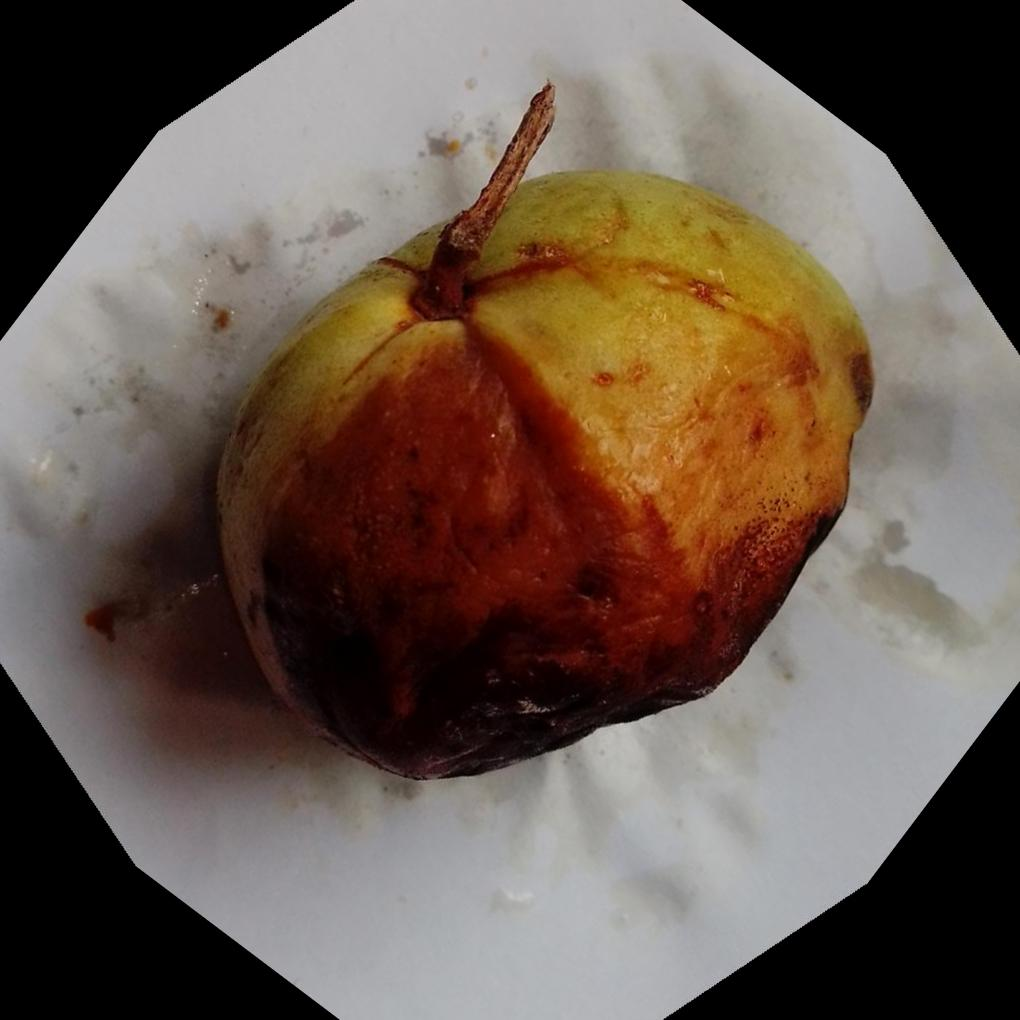FreshOrange: (208, 81, 875, 781)
